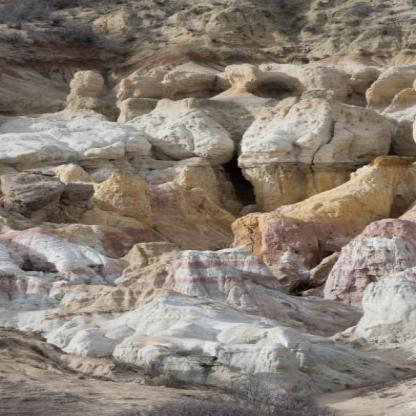Sedimentary_Sandstone: (81, 247, 305, 322), (200, 325, 400, 404), (235, 92, 400, 182), (1, 99, 130, 175), (146, 100, 223, 161)
